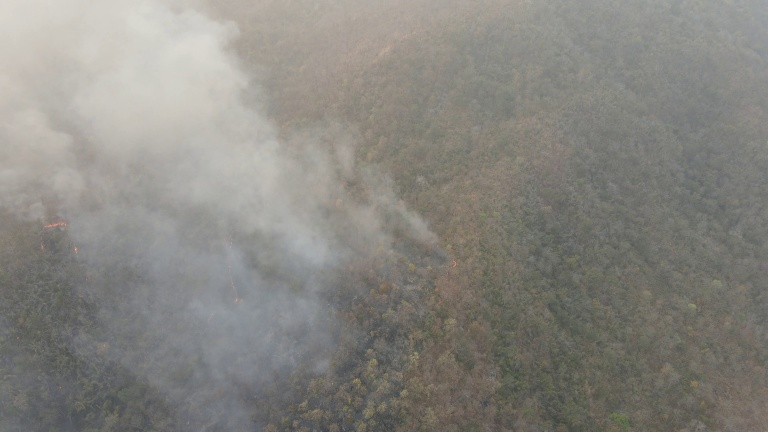fire: (34, 219, 85, 257), (223, 259, 240, 309), (440, 257, 457, 285)
smoke: (1, 1, 435, 431)
